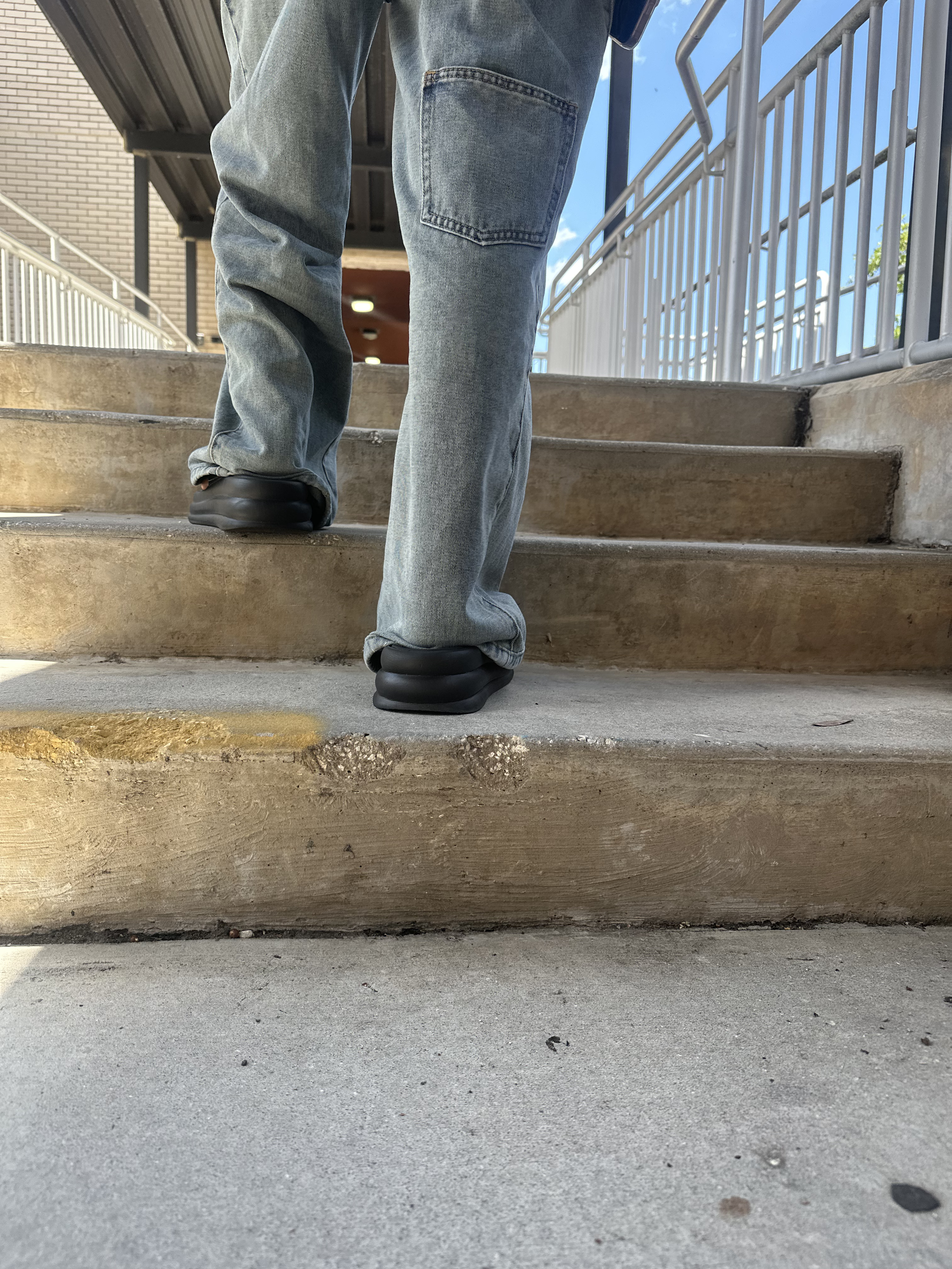stairs: (2, 342, 951, 937)
